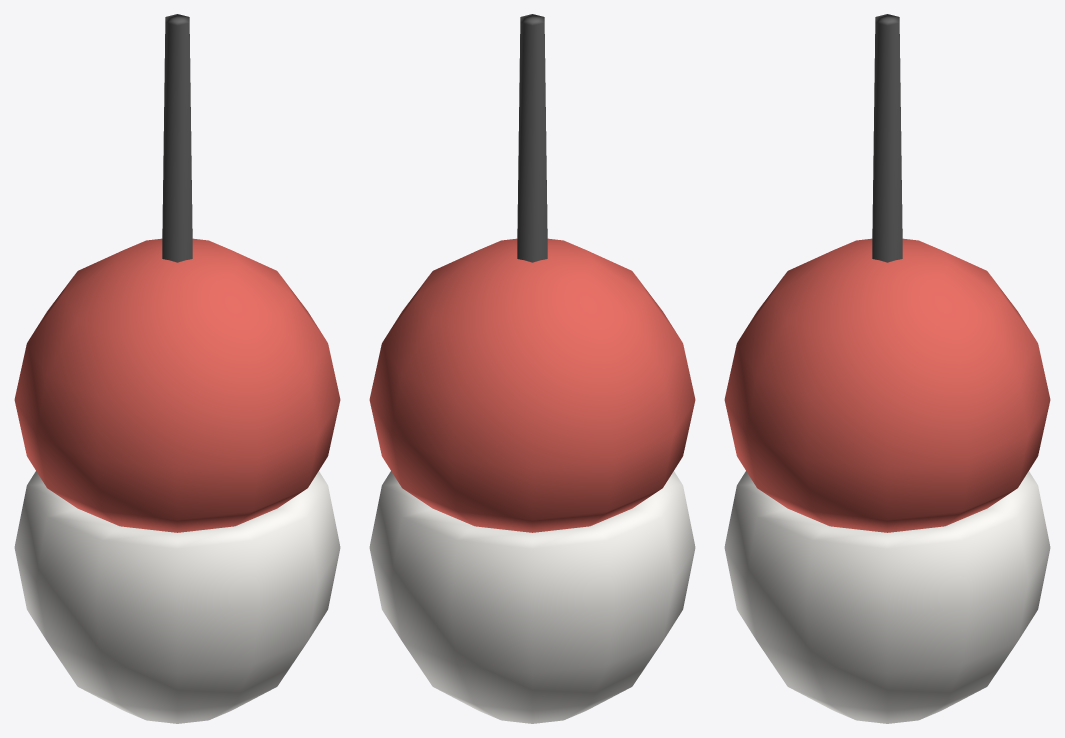
File: bobber.glb
The picture shows the model from 3 angles, left to right: view 1: azimuth 30°, elevation 25°; view 2: azimuth 150°, elevation 25°; view 3: azimuth 270°, elevation 25°; orthographic projection.
Visible parts, largest first — view 1: bobber; view 2: bobber; view 3: bobber.
Boxes of the visible parts, <box> form: bobber: <box>14,14,340,723</box>; bobber: <box>369,14,695,723</box>; bobber: <box>724,14,1050,723</box>.
Size of the model in its own units: 0.07 by 0.1635 by 0.07.
